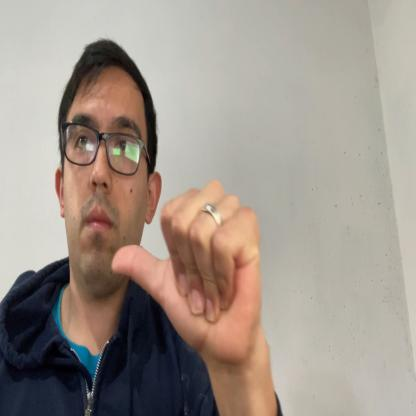A: (112, 177, 262, 365)
